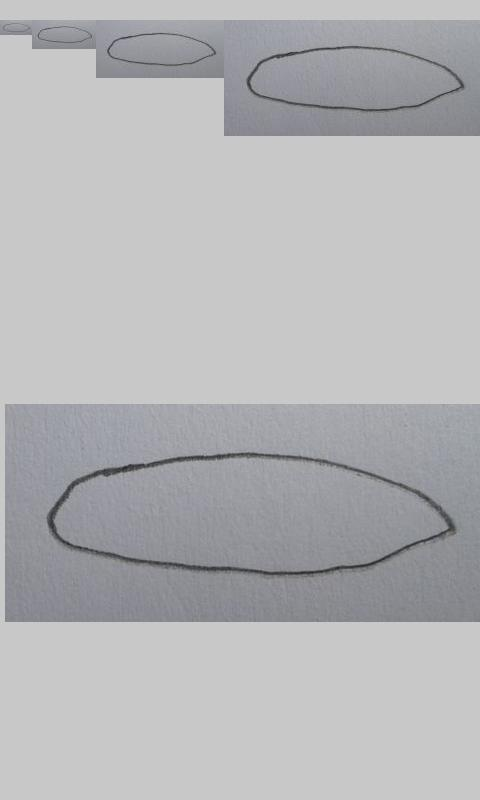chip: (46, 453, 458, 578), (246, 45, 466, 113), (107, 32, 217, 67), (37, 25, 93, 44), (2, 22, 31, 33)
